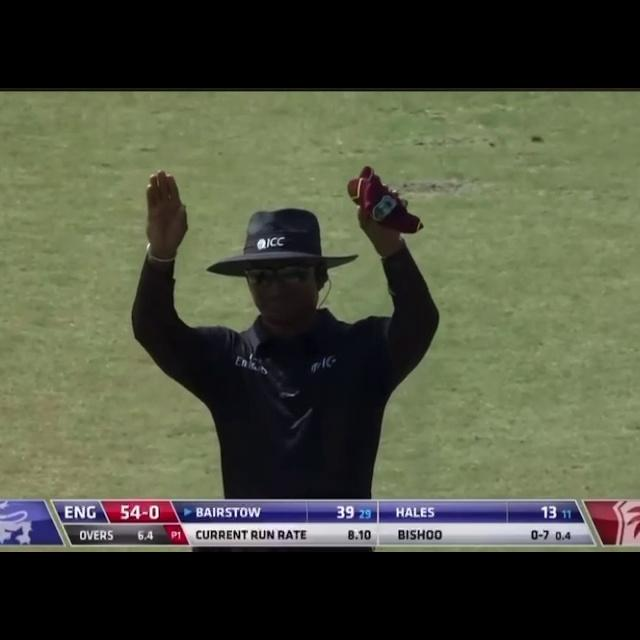umpire: (116, 147, 444, 500)
